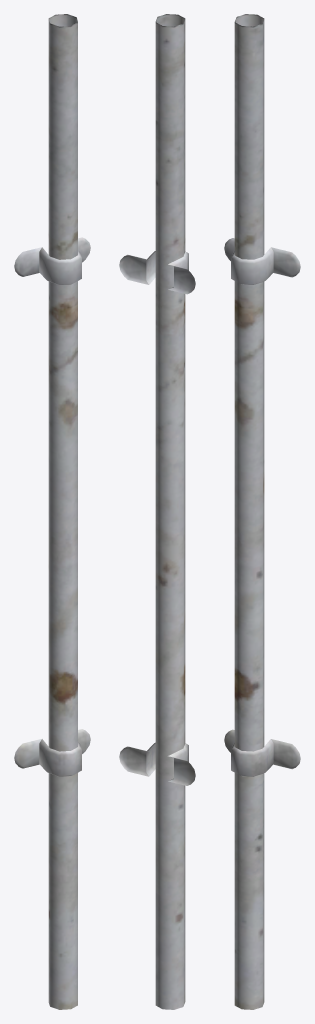
The model's file is SM_Pipe_100_Straight_01a.glb.
3 views of the same model, side by side, from view 1: azimuth 30°, elevation 25°; view 2: azimuth 150°, elevation 25°; view 3: azimuth 330°, elevation 25° (orthographic).
Parts seen in each view (by area): view 1: SM_Pipe_100_Straight_01a; view 2: SM_Pipe_100_Straight_01a; view 3: SM_Pipe_100_Straight_01a.
Part boxes in pixels (left/top/right/bottom): SM_Pipe_100_Straight_01a: left=14, top=14, right=90, bottom=1009; SM_Pipe_100_Straight_01a: left=119, top=14, right=195, bottom=1009; SM_Pipe_100_Straight_01a: left=224, top=14, right=300, bottom=1009.
Size of the model in its own units: 0.0815 by 1 by 0.0398.
1 material, 1 textured.
